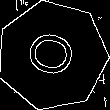O_E: (22, 28, 83, 83)
